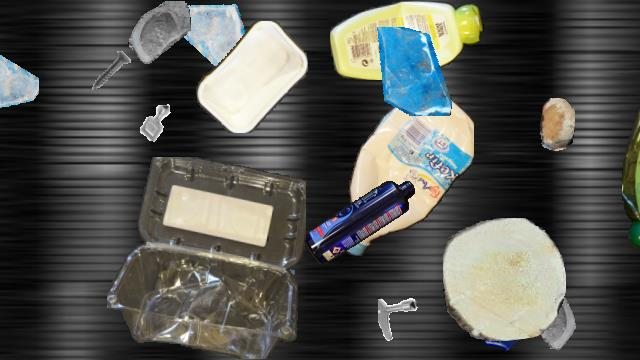glass: (368, 27, 456, 115), (219, 240, 295, 316), (513, 282, 589, 358), (175, 1, 247, 73), (473, 288, 535, 350), (128, 1, 190, 63), (0, 47, 39, 109)
metal: (378, 296, 438, 356), (85, 45, 139, 99), (130, 97, 182, 149)
plastic: (107, 157, 305, 359), (344, 86, 474, 260), (195, 21, 309, 133), (330, 1, 484, 79), (304, 181, 414, 263), (622, 103, 640, 251)
wood: (443, 218, 565, 340), (540, 98, 574, 150)
